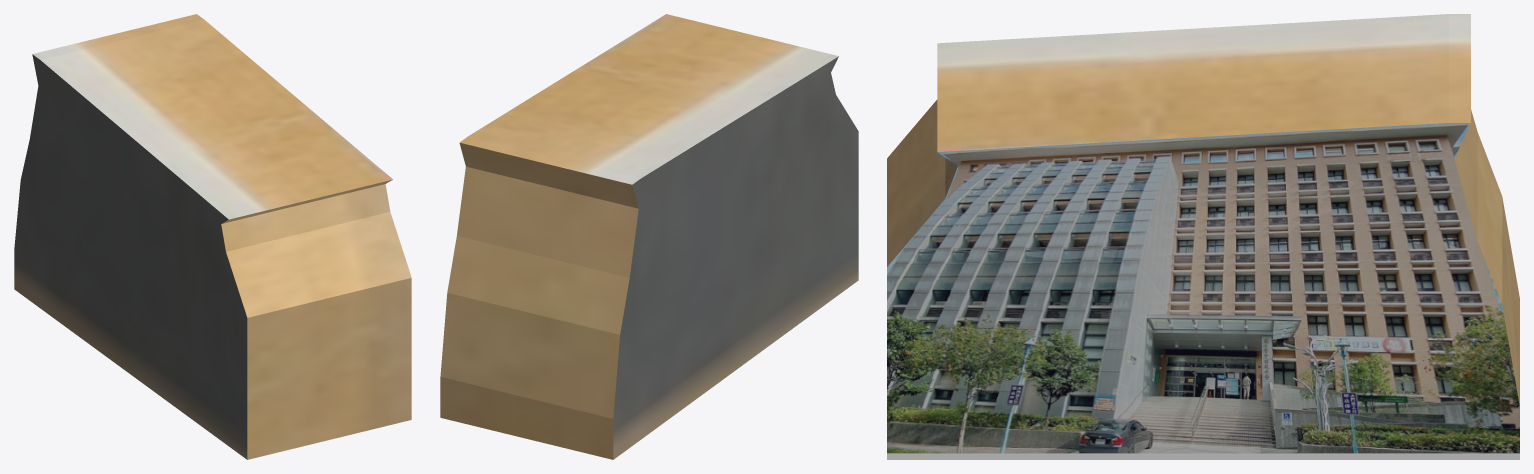
The model's file is zhongji.glb.
The picture shows the model from 3 angles, left to right: view 1: azimuth 30°, elevation 25°; view 2: azimuth 150°, elevation 25°; view 3: azimuth 270°, elevation 25°; orthographic projection. The views are drawn at different scales.
Visible parts, largest first — view 1: 未命名設計; view 2: 未命名設計; view 3: 未命名設計.
Boxes of the visible parts, box(x1,y1,x2,y2) form: 未命名設計: box(14, 14, 411, 459); 未命名設計: box(440, 14, 858, 459); 未命名設計: box(887, 14, 1519, 459).
Size of the model in its own units: 0.251 by 0.3625 by 0.6165.
Materials: 1 (1 with a texture image).
